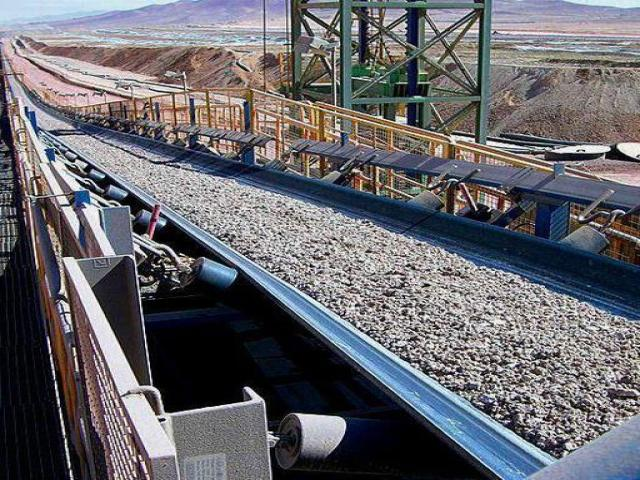conveyor: (0, 53, 640, 475)
